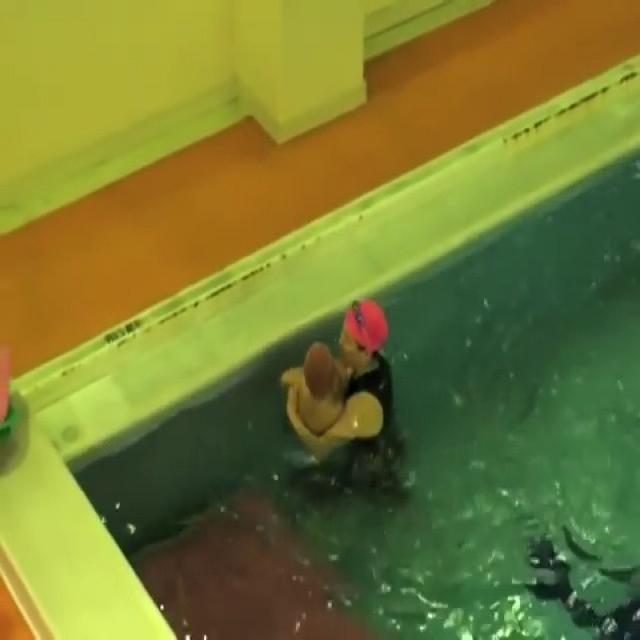swimming: (279, 295, 411, 479)
